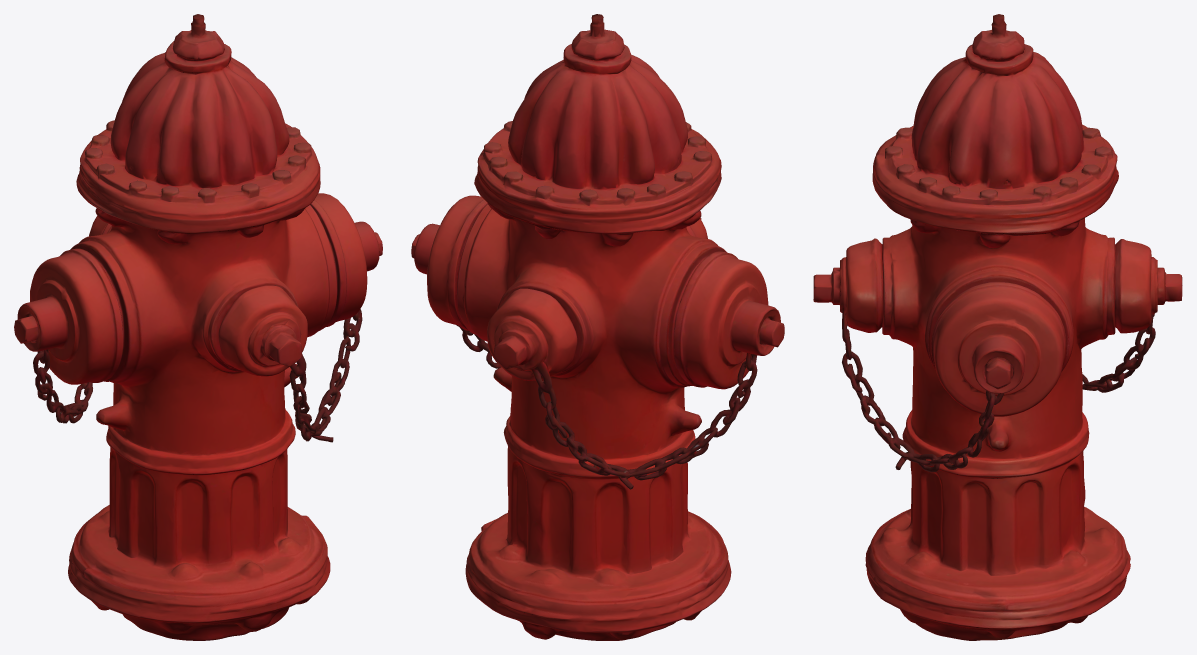
File: firehydrant3d.glb
The picture shows the model from 3 angles, left to right: view 1: azimuth 30°, elevation 25°; view 2: azimuth 150°, elevation 25°; view 3: azimuth 270°, elevation 25°; orthographic projection.
Parts seen in each view (by area): view 1: tripo_node_96db284f-4cee-4286-85b2-6364037f0b49; view 2: tripo_node_96db284f-4cee-4286-85b2-6364037f0b49; view 3: tripo_node_96db284f-4cee-4286-85b2-6364037f0b49.
Part boxes in pixels (x1,y1,x2,y2): tripo_node_96db284f-4cee-4286-85b2-6364037f0b49: (14, 14, 382, 640); tripo_node_96db284f-4cee-4286-85b2-6364037f0b49: (411, 14, 784, 640); tripo_node_96db284f-4cee-4286-85b2-6364037f0b49: (813, 14, 1182, 640).
Bounding box in the file's own units: 0.6388 × 1 × 0.5658.
Materials: 1 (1 with a texture image).
